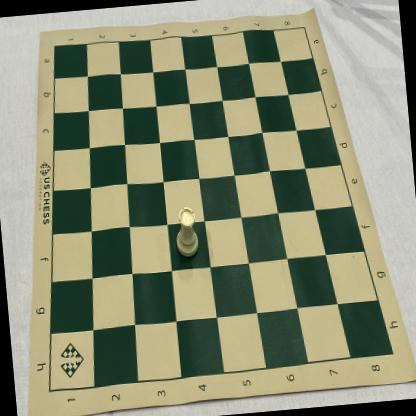rook: (174, 206, 200, 260)
